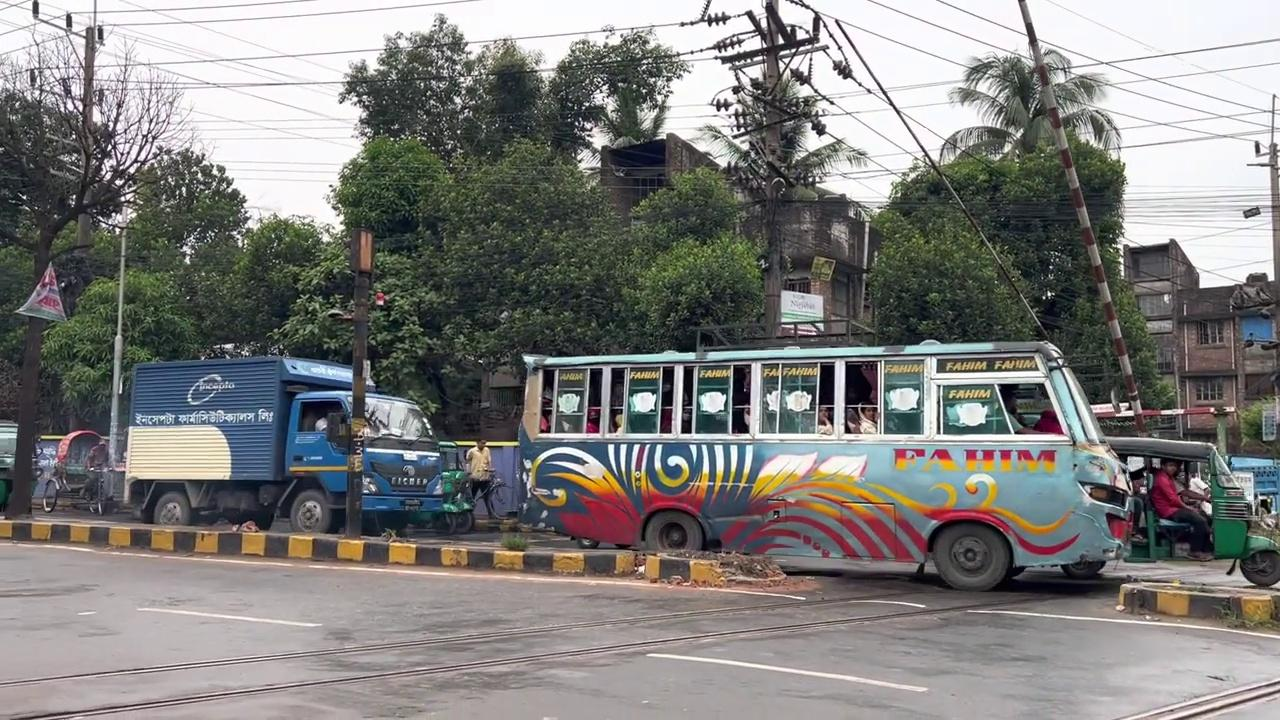Car: (1, 518, 783, 589)
Fence: (1149, 457, 1215, 561), (463, 438, 499, 519)
Garbage: (1017, 0, 1147, 435), (342, 227, 373, 538), (105, 217, 128, 499)
Railroad-crossing: (0, 17, 196, 517)
Rickshaw: (515, 337, 1135, 591), (121, 355, 469, 535)
